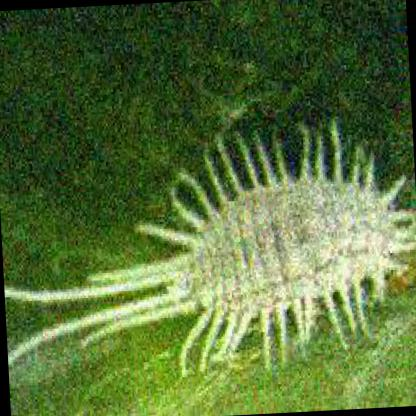mealy bug: (9, 178, 391, 366)
